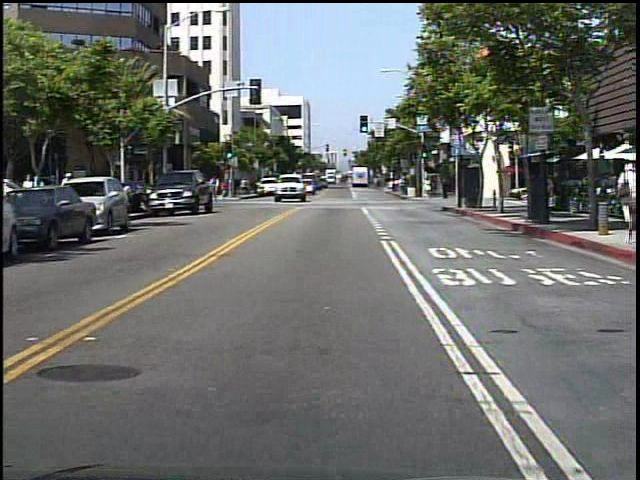person: (609, 158, 640, 236), (212, 175, 223, 204), (421, 176, 433, 200)
